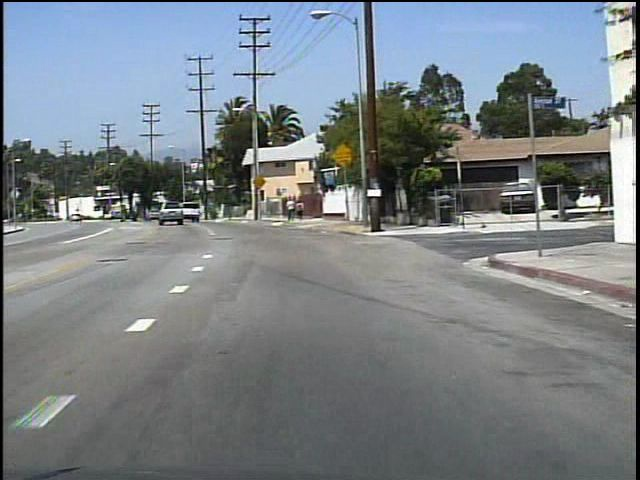person: (285, 196, 296, 222), (295, 198, 305, 222)
